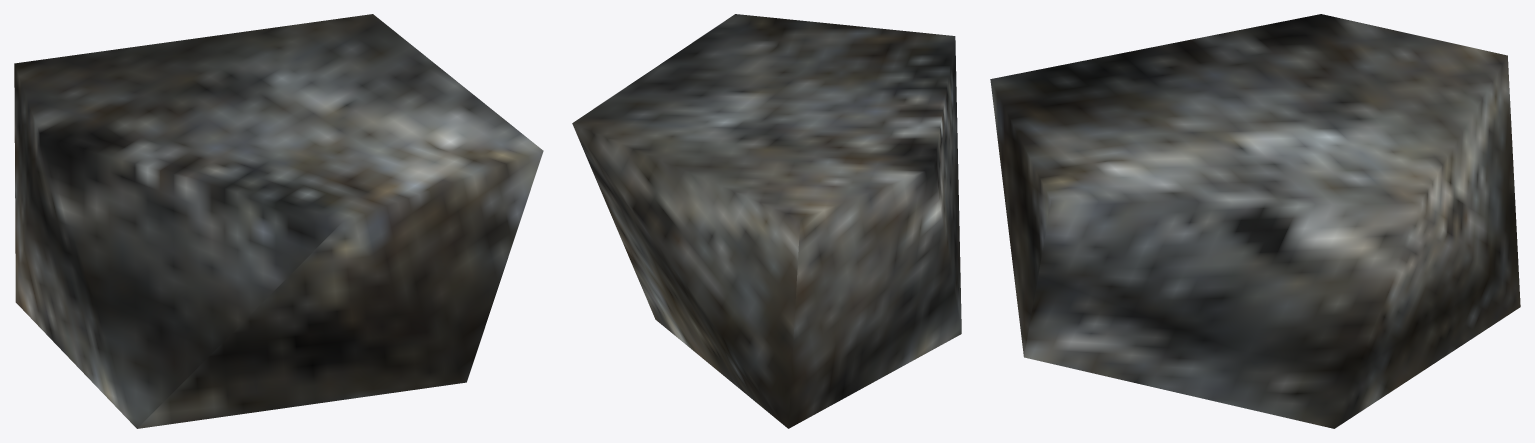
Rendered from Rock2_8_LOD1.fbx.
3 views of the same model, side by side, from view 1: azimuth 30°, elevation 25°; view 2: azimuth 150°, elevation 25°; view 3: azimuth 270°, elevation 25° (orthographic). The views are drawn at different scales.
Visible parts, largest first — view 1: polySurface19; view 2: polySurface19; view 3: polySurface19.
Boxes of the visible parts, x1,y1,x2,y2 form: polySurface19: [14, 14, 543, 428]; polySurface19: [572, 14, 961, 428]; polySurface19: [990, 14, 1520, 428].
Size of the model in its own units: 0.9475 by 0.6137 by 1.13.
